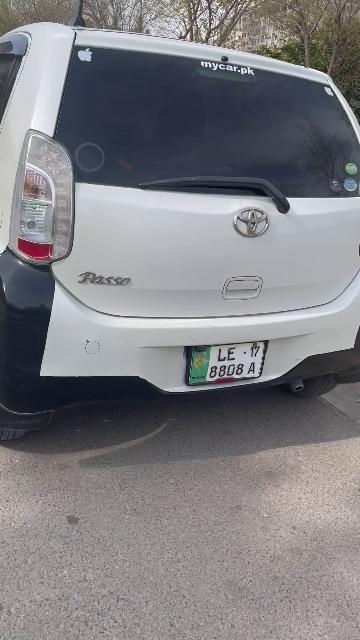plate: (190, 340, 267, 385)
